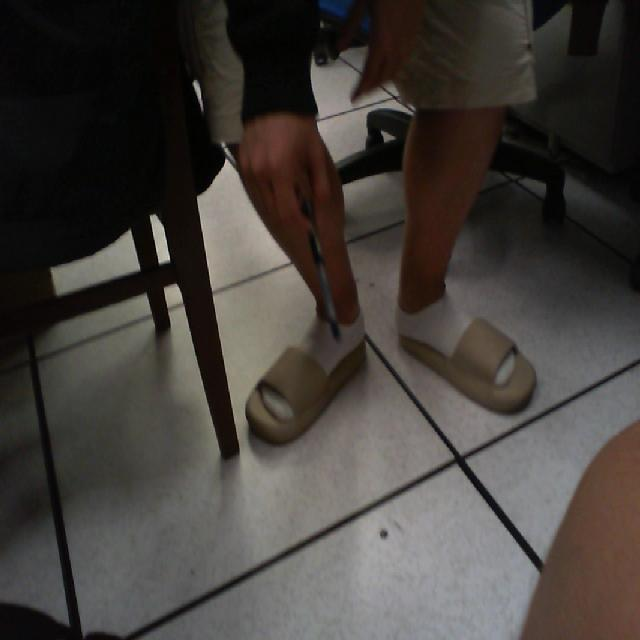Pen: (284, 165, 362, 376)
